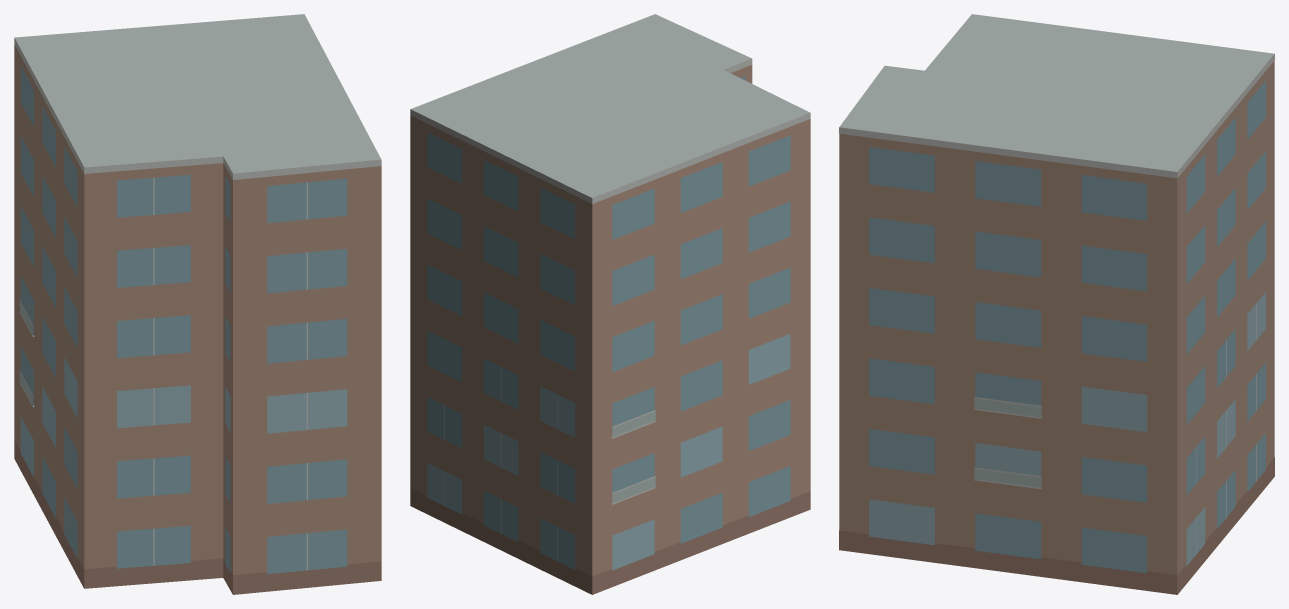
Rendered from survey-upis-32886859.glb.
3 views of the same model, side by side, from view 1: azimuth 30°, elevation 25°; view 2: azimuth 150°, elevation 25°; view 3: azimuth 270°, elevation 25° (orthographic). The views are drawn at different scales.
Visible parts, largest first — view 1: survey-upis-32886859.tmp; view 2: survey-upis-32886859.tmp; view 3: survey-upis-32886859.tmp.
Part boxes in pixels (x1,y1,x2,y2): survey-upis-32886859.tmp: (14, 14, 381, 594); survey-upis-32886859.tmp: (410, 14, 810, 594); survey-upis-32886859.tmp: (839, 14, 1274, 594).
Bounding box in the file's own units: 12.91 × 16.1 × 15.04.
